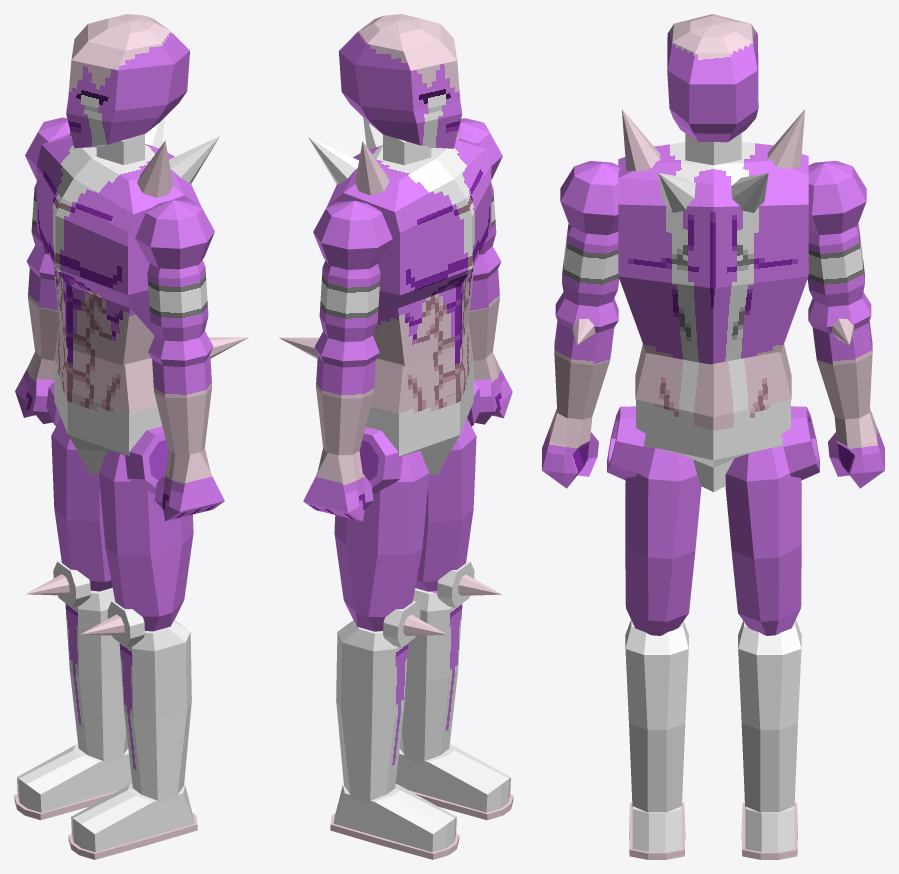
File: HermitJJLA.glb
3 renders of one model, left to right at view 1: azimuth 30°, elevation 25°; view 2: azimuth 150°, elevation 25°; view 3: azimuth 270°, elevation 25°, orthographic. The views are drawn at different scales.
Parts seen in each view (by area): view 1: Torso, Cabeça, Perna Cima E, Perna Baixo E, Pélvis, Perna Baixo D, Braço Cima E, Perna Cima D, Braço Baixo E, Pé E, Pé D, Mão E (+3 smaller); view 2: Torso, Cabeça, Perna Cima D, Perna Baixo D, Pélvis, Perna Baixo E, Braço Cima D, Perna Cima E, Braço Baixo D, Pé D, Pé E, Mão D (+3 smaller); view 3: Torso, Pélvis, Perna Cima D, Perna Cima E, Perna Baixo E, Perna Baixo D, Cabeça, Braço Cima E, Braço Cima D, Braço Baixo E, Braço Baixo D, Mão E (+3 smaller).
Boxes of the visible parts, bbox=[...] form: Torso: bbox=[36, 118, 219, 365]; Cabeça: bbox=[66, 14, 189, 148]; Perna Cima E: bbox=[99, 426, 193, 631]; Perna Baixo E: bbox=[80, 600, 191, 803]; Pélvis: bbox=[54, 322, 162, 474]; Perna Baixo D: bbox=[26, 560, 128, 763]; Braço Cima E: bbox=[135, 200, 214, 341]; Perna Cima D: bbox=[46, 382, 112, 591]; Braço Baixo E: bbox=[148, 331, 248, 454]; Pé E: bbox=[68, 784, 197, 859]; Pé D: bbox=[14, 744, 132, 820]; Mão E: bbox=[154, 448, 224, 521]; Torso: bbox=[308, 118, 491, 366]; Cabeça: bbox=[338, 14, 462, 148]; Perna Cima D: bbox=[334, 427, 428, 631]; Perna Baixo D: bbox=[336, 600, 446, 803]; Pélvis: bbox=[365, 322, 473, 475]; Perna Baixo E: bbox=[399, 561, 501, 763]; Braço Cima D: bbox=[313, 200, 392, 341]; Perna Cima E: bbox=[415, 382, 481, 591]; Braço Baixo D: bbox=[279, 331, 379, 455]; Pé D: bbox=[330, 784, 459, 859]; Pé E: bbox=[395, 744, 513, 820]; Mão D: bbox=[303, 448, 373, 521]; Torso: bbox=[618, 109, 808, 364]; Pélvis: bbox=[635, 344, 791, 491]; Perna Cima D: bbox=[725, 406, 819, 635]; Perna Cima E: bbox=[607, 406, 701, 635]; Perna Baixo E: bbox=[625, 619, 688, 812]; Perna Baixo D: bbox=[738, 619, 801, 812]; Cabeça: bbox=[667, 14, 758, 142]; Braço Cima E: bbox=[560, 161, 619, 306]; Braço Cima D: bbox=[807, 161, 866, 306]; Braço Baixo E: bbox=[554, 292, 618, 419]; Braço Baixo D: bbox=[808, 292, 872, 419]; Mão E: bbox=[542, 409, 598, 488].
Bounding box in the file's own units: 1.92 × 9.94 × 3.75.
5 materials, 5 textured.
